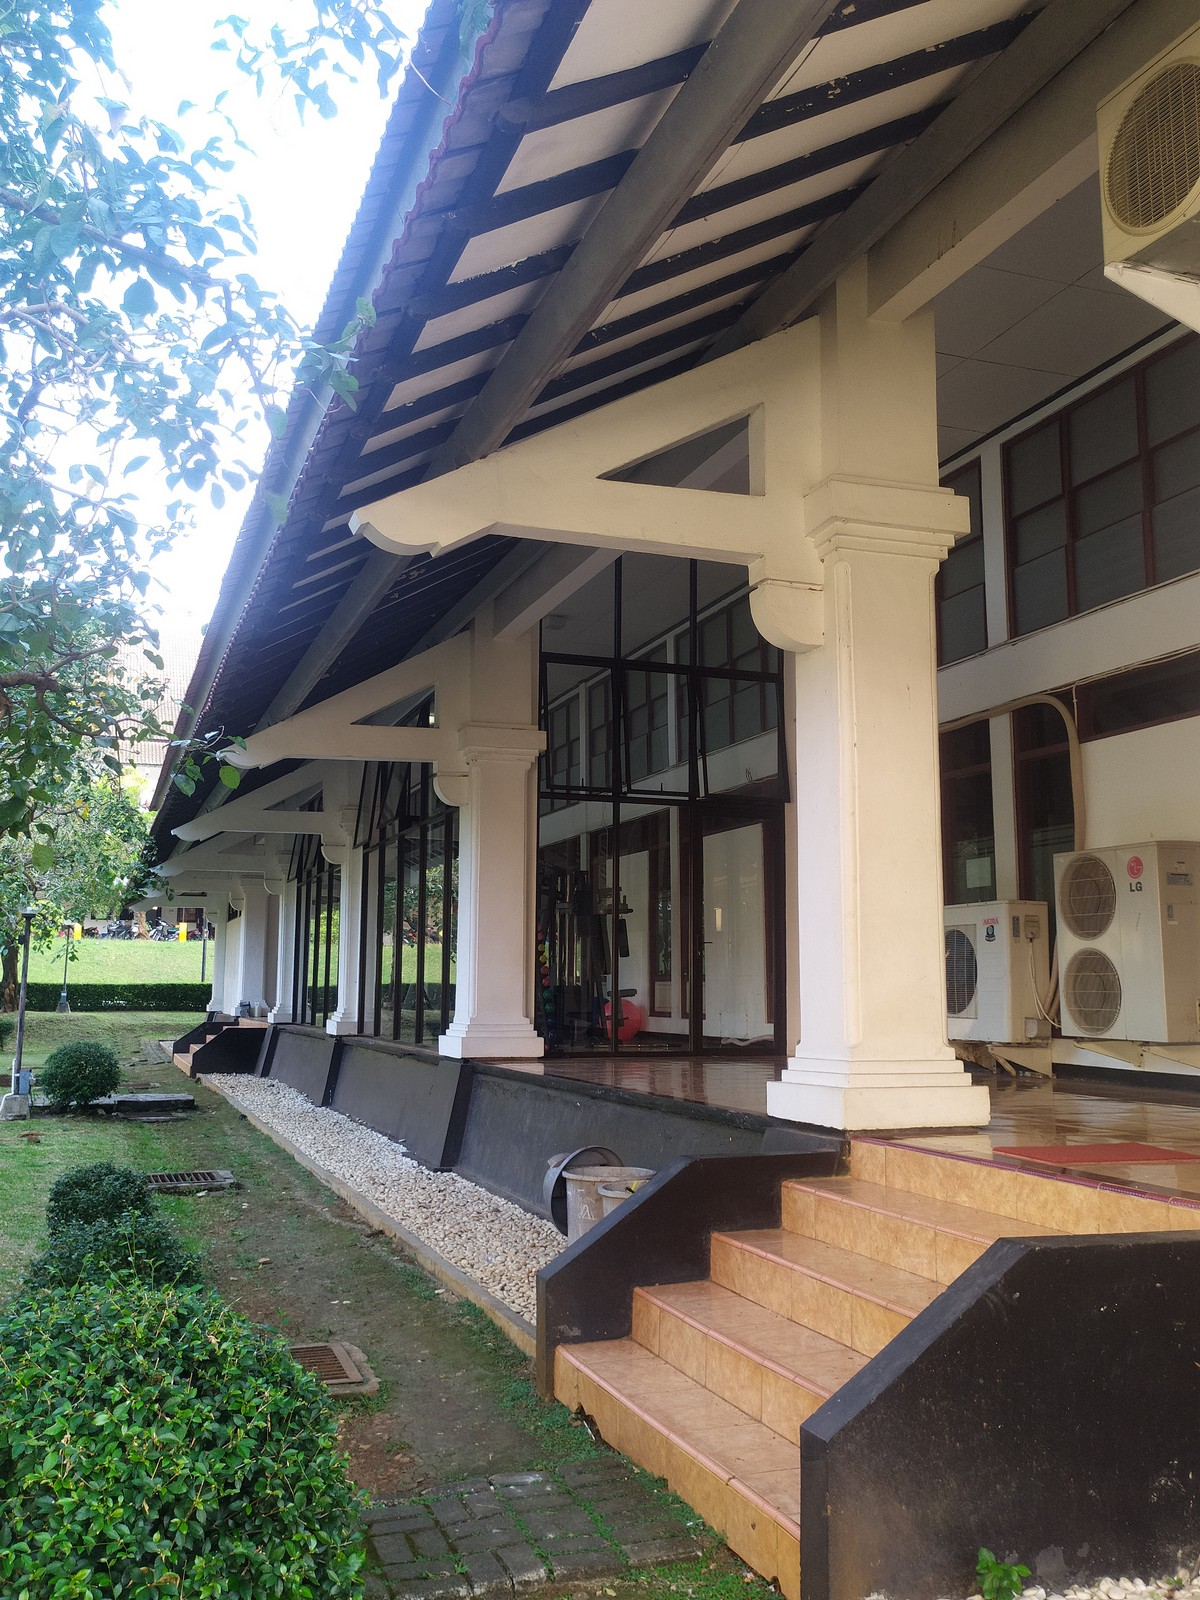concrete beam: (529, 469, 784, 581), (329, 719, 460, 770)
concrete column: (780, 574, 968, 1120), (441, 774, 542, 1048)
